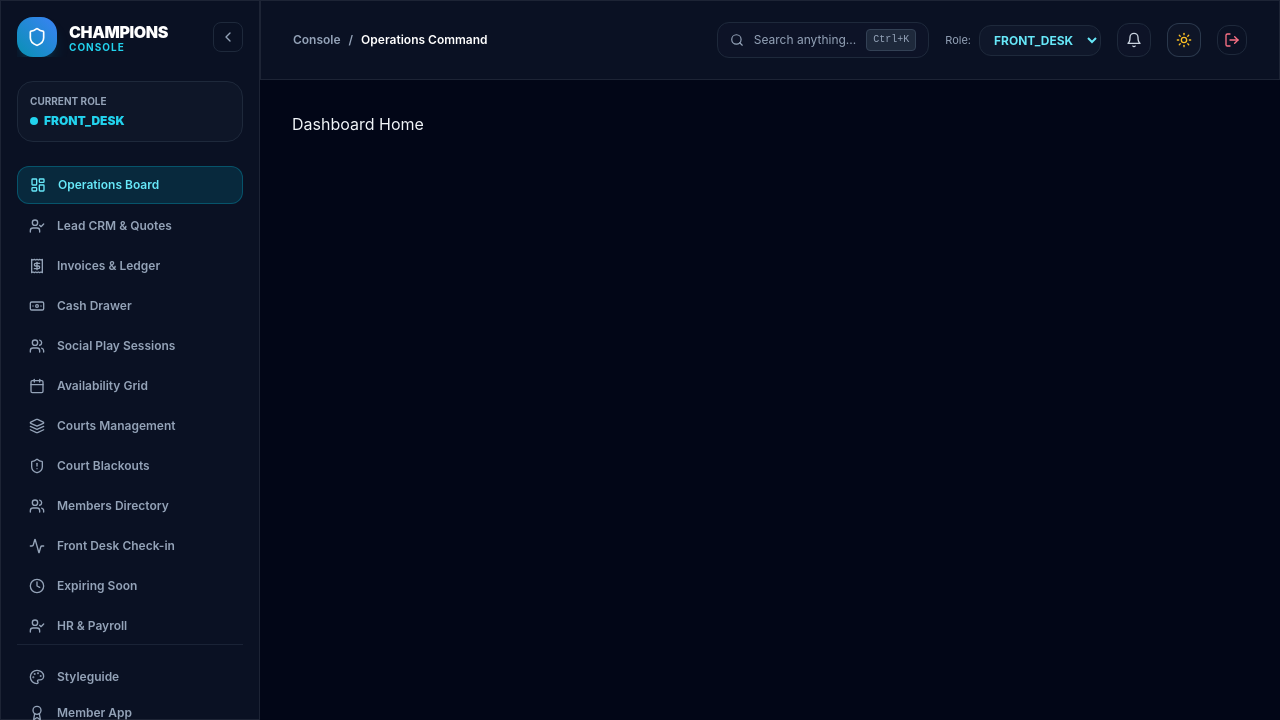
Test: Shells & Navigation Suite › Staff Console Shell (Role-aware filtering) › filters sidebar navigation links based on user role
The image size is (1280, 720).
Expected: the link "Operations Board" is shown, left=17, top=166, right=243, bottom=204
Expected: the link "Front Desk Check-in" is shown, left=29, top=538, right=175, bottom=554
// Switch role to KITCHEN
Select "KITCHEN" in the dropdown named "Select staff role" at (1040, 40), box left=979, top=24, right=1101, bottom=56
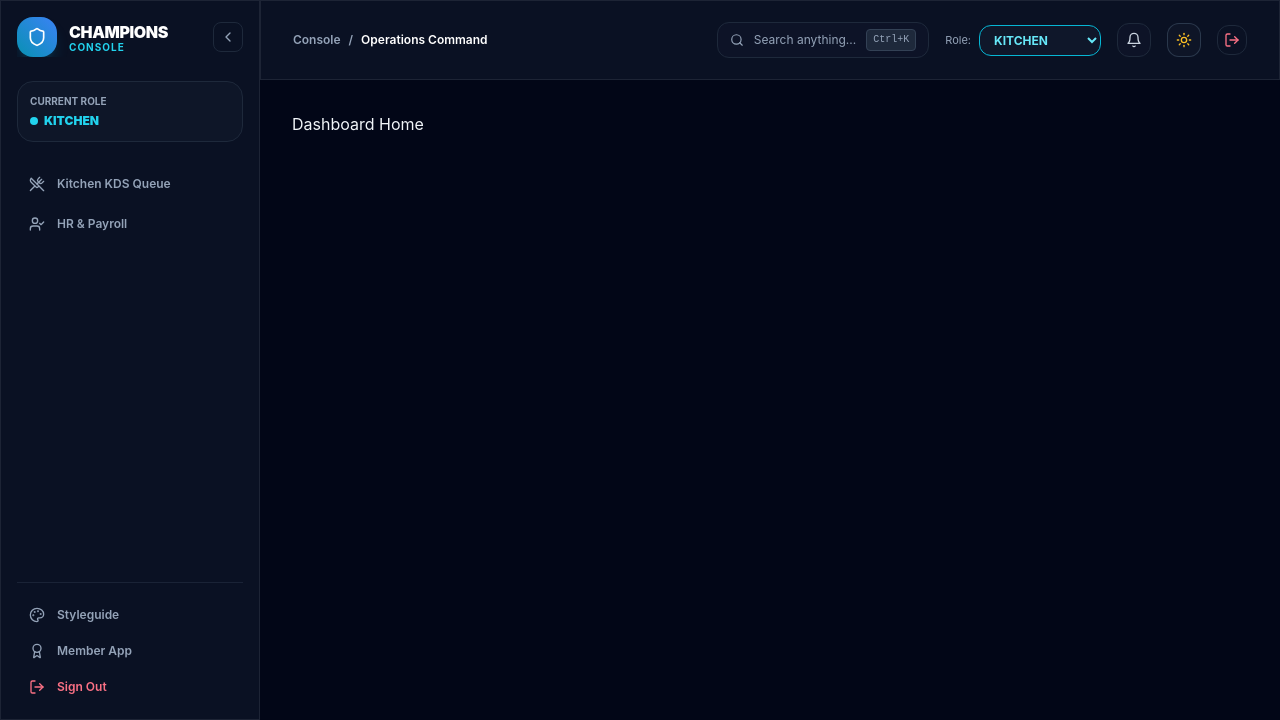
Expected: the link "System Configuration" is not shown
Now the link "Kitchen KDS Queue" is shown, box left=29, top=176, right=171, bottom=192
Now the link "Front Desk Check-in" is gone
// Switch role to OWNER
Select "OWNER" in the dropdown named "Select staff role" at (1040, 40), box left=979, top=24, right=1101, bottom=56
(page scrolled)
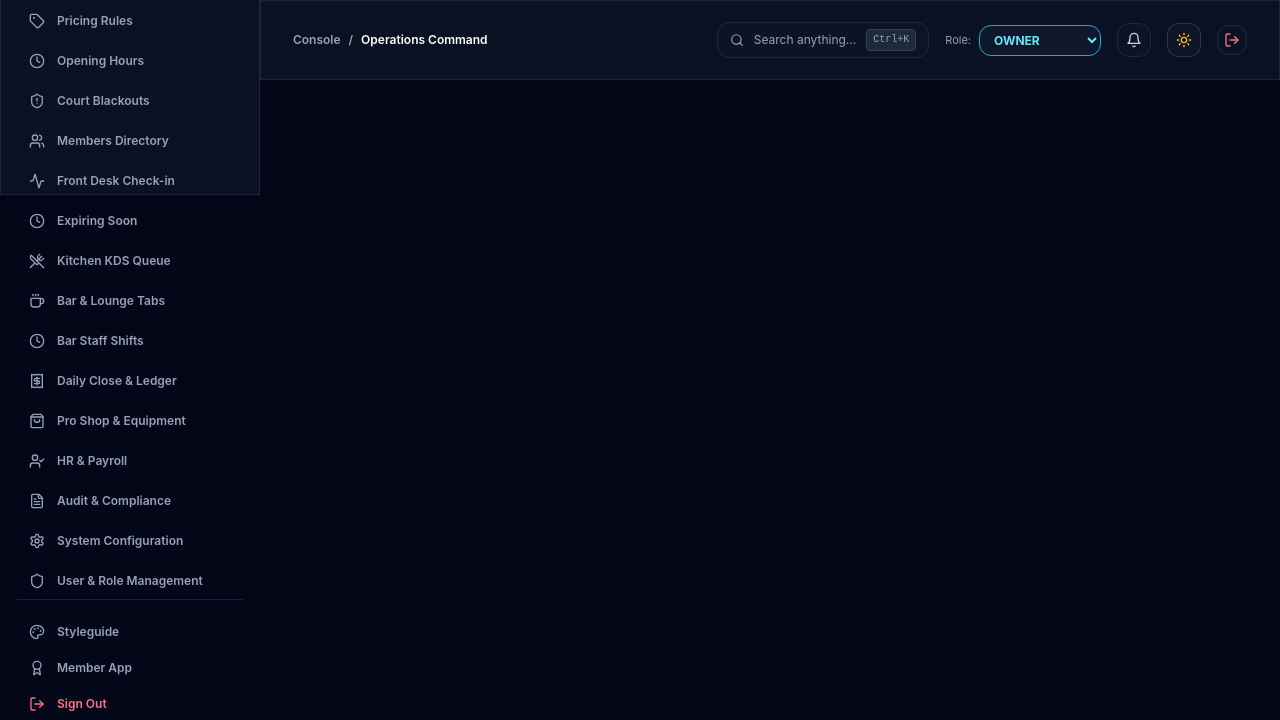
Now the link "Kitchen KDS Queue" is shown, box left=29, top=253, right=171, bottom=269
Now the link "Front Desk Check-in" is shown, box left=29, top=173, right=175, bottom=189
Now the link "Bar & Lounge Tabs" is shown, box left=29, top=293, right=165, bottom=309
